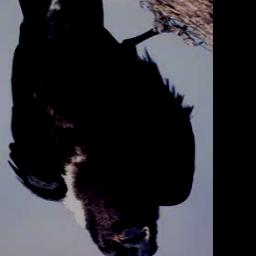Crow: (5, 0, 199, 256)
